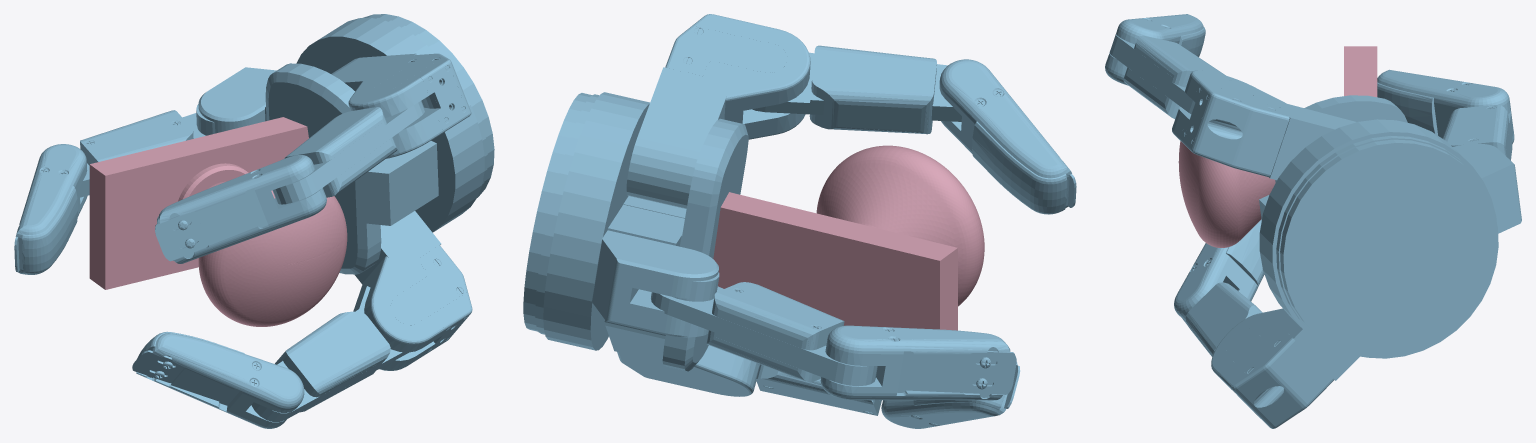
3 views of the same model, side by side, from view 1: azimuth 30°, elevation 25°; view 2: azimuth 150°, elevation 25°; view 3: azimuth 270°, elevation 25° (orthographic). The views are drawn at different scales.
Visible parts, largest first — view 1: world, door_knob.stl; view 2: world, door_knob.stl; view 3: world, door_knob.stl.
Boxes of the visible parts, x1=… form: world: x1=14, y1=14, x2=494, y2=428; door_knob.stl: x1=89, y1=117, x2=347, y2=326; world: x1=523, y1=14, x2=1076, y2=428; door_knob.stl: x1=713, y1=145, x2=984, y2=330; world: x1=1105, y1=14, x2=1521, y2=428; door_knob.stl: x1=1178, y1=46, x2=1377, y2=247.
Size of the model in its own units: 0.1985 by 0.1412 by 0.1576.
